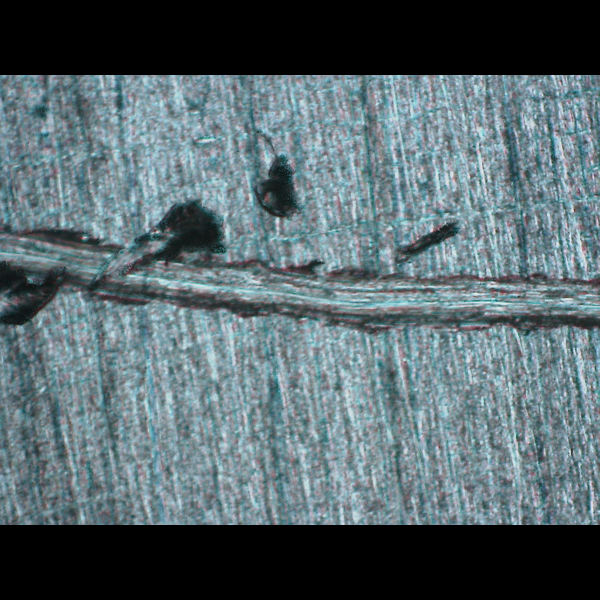d: (1, 138, 600, 356)
